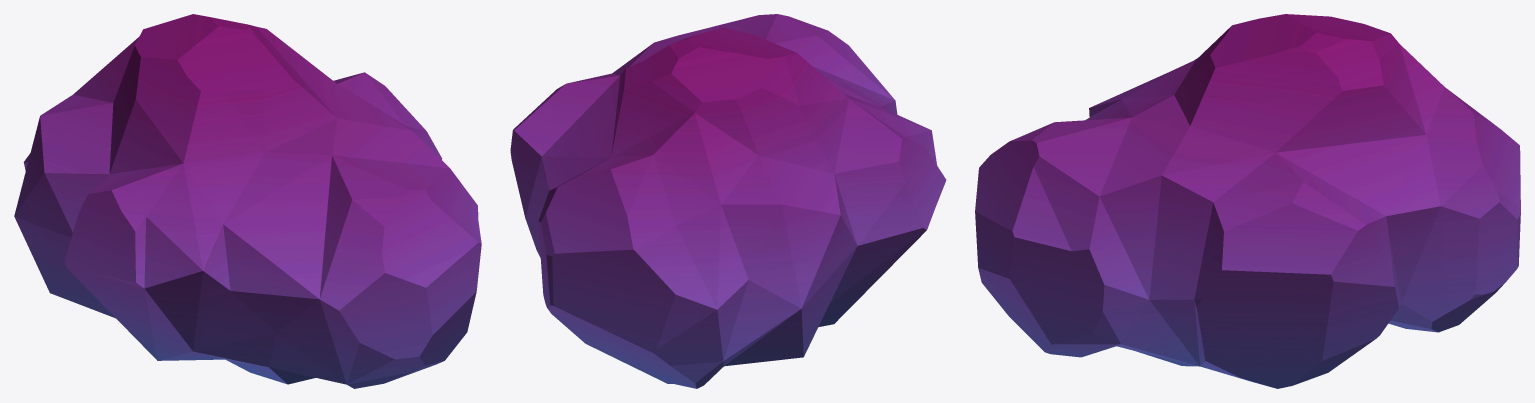
Rendered from rocatopacio_10.fbx.
3 views of the same model, side by side, from view 1: azimuth 30°, elevation 25°; view 2: azimuth 150°, elevation 25°; view 3: azimuth 270°, elevation 25° (orthographic). The views are drawn at different scales.
Visible parts, largest first — view 1: cueva02.001; view 2: cueva02.001; view 3: cueva02.001.
Boxes of the visible parts, x1,y1,x2,y2 form: cueva02.001: (14, 14, 481, 388); cueva02.001: (510, 14, 946, 388); cueva02.001: (975, 14, 1520, 388).
Size of the model in its own units: 398 by 307 by 487.
1 material, 1 textured.
